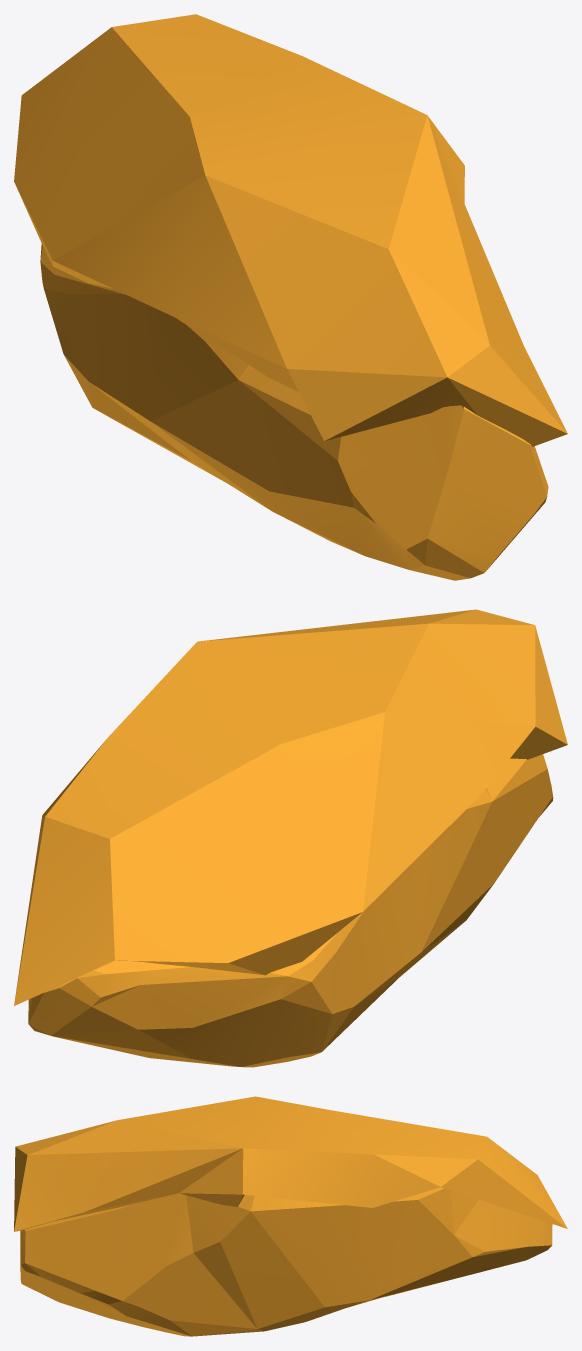
Rendered from SM_Menhir_E_Horizontal_Snow.fbx.
3 views of the same model, one above another, from view 1: azimuth 30°, elevation 25°; view 2: azimuth 150°, elevation 25°; view 3: azimuth 270°, elevation 25° (orthographic). The views are drawn at different scales.
Parts seen in each view (by area): view 1: menhir-e-horizontal-snow; view 2: menhir-e-horizontal-snow; view 3: menhir-e-horizontal-snow.
Part boxes in pixels (box(x1,y1,x2,y2)): menhir-e-horizontal-snow: box(14, 14, 567, 580); menhir-e-horizontal-snow: box(14, 609, 567, 1067); menhir-e-horizontal-snow: box(14, 1096, 567, 1336).
Bounding box in the file's own units: 1.76 × 1.77 × 4.48.
